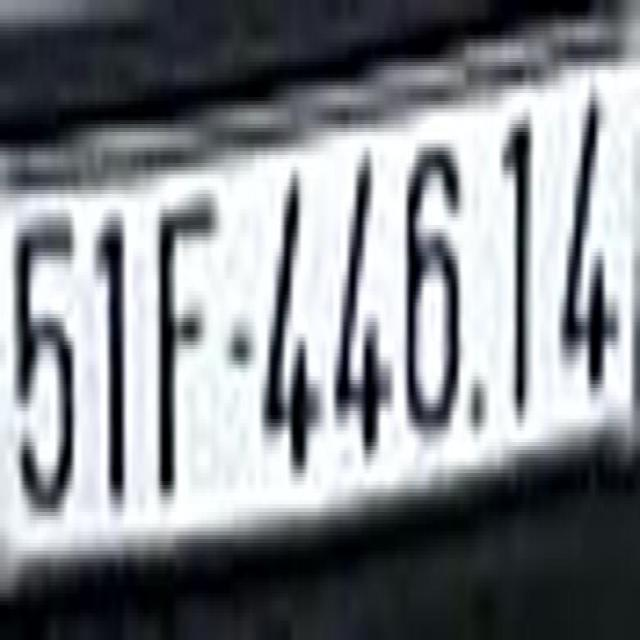1: (93, 190, 135, 508), (497, 109, 533, 438)
4: (256, 159, 327, 477), (560, 78, 624, 430), (334, 143, 397, 454)
5: (14, 198, 79, 527)
6: (402, 140, 464, 458)
F: (155, 175, 223, 512)
